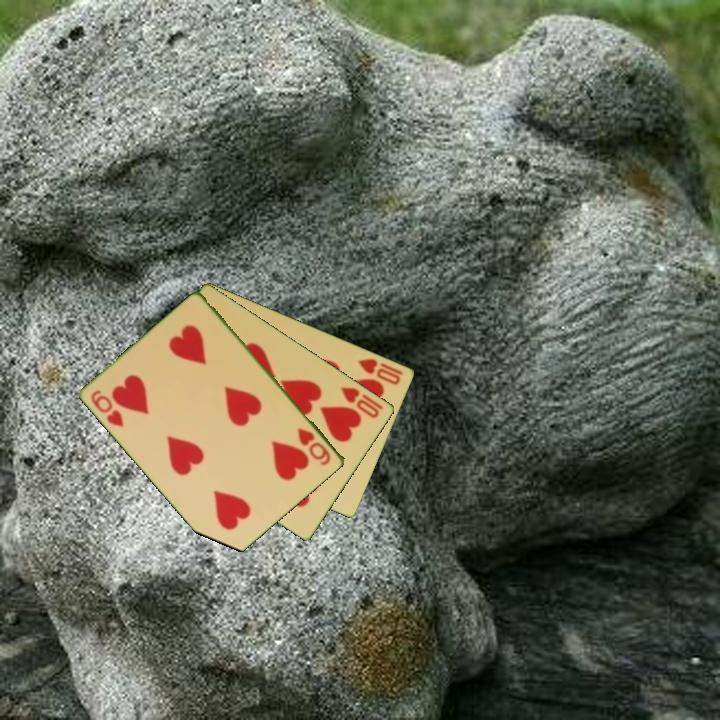10h: (354, 354, 407, 388), (337, 383, 383, 421)
6h: (294, 424, 334, 468), (88, 386, 127, 430)
